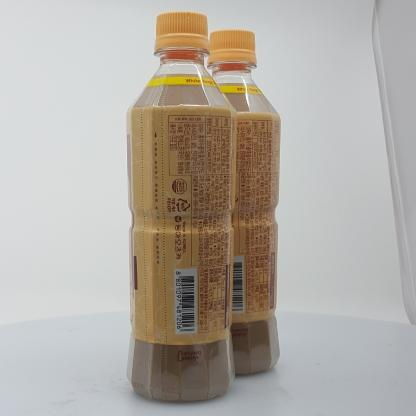-------------500ML: (126, 11, 237, 402), (187, 29, 281, 375)
